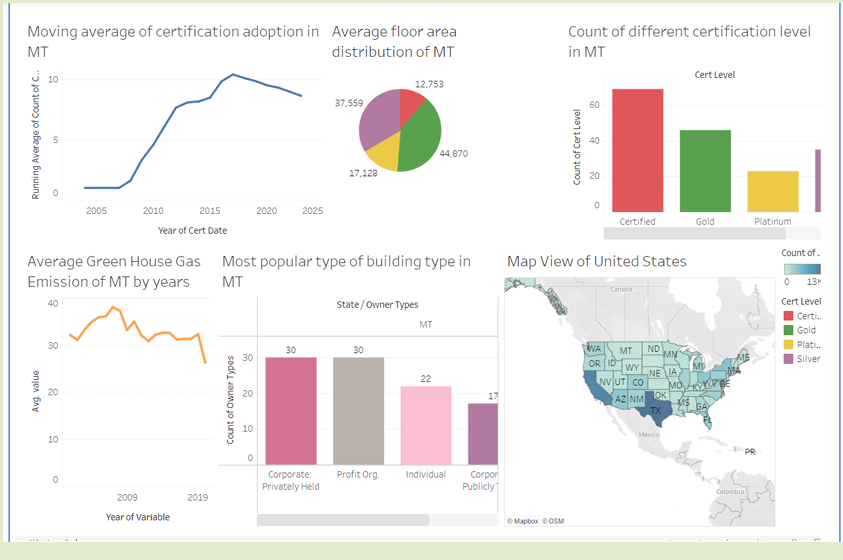

The page's visual inventory and layout, read from the dashboard file:
{"tool":"tableau","page":{"name":"Dashboard 1","canvas":[1000,1000],"units":"permille","ordinal":0},"visuals":[{"type":"worksheet","title":"Sheet 4","mark":"Line","rows":["State"],"cols":["CertDate"],"box":[6.8,11.9,358.2,434.3]},{"type":"worksheet","title":"Sheet 3","mark":"Pie","rows":["State"],"box":[365,11.9,311,434.3]},{"type":"worksheet","title":"Sheet 2","mark":"Bar","rows":["State","CertLevel"],"cols":["CertLevel"],"box":[675.9,11.9,317.3,434.3]},{"type":"worksheet","title":"Sheet 7","mark":"Line","rows":["value"],"cols":["variable"],"box":[6.8,446.3,27.2,541.8]},{"type":"worksheet","title":"Sheet 5","mark":"Bar","rows":["OwnerTypes"],"cols":["State","OwnerTypes"],"box":[34,446.3,560.6,541.8]},{"type":"worksheet","title":"Sheet 1","mark":"Multipolygon","box":[594.6,446.3,339.1,541.8]},{"type":"legend","title":"Sheet 1","param":"[federated.0x5b4lk1nn2t3g14mz9i00gy8v11].[cnt:CertLevel:qk]","box":[933.7,446.3,59.5,109]},{"type":"legend","title":"Sheet 2","param":"[federated.0x5b4lk1nn2t3g14mz9i00gy8v11].[none:CertLevel:nk]","box":[933.7,555.2,59.5,170.2]}]}

Visuals, with their boxes on the dashboard's canvas, which has no fixed pixel size, in thousandths of its width and height (x1, y1, x2, y2). These are canvas units, not pixel positions in the 843x560 screenshot, which may show the page scaled, cropped or inside an application window:
"Sheet 4" worksheet (Line marks): <box>7,12,365,446</box>
"Sheet 3" worksheet (Pie marks): <box>365,12,676,446</box>
"Sheet 2" worksheet (Bar marks): <box>676,12,993,446</box>
"Sheet 7" worksheet (Line marks): <box>7,446,34,988</box>
"Sheet 5" worksheet (Bar marks): <box>34,446,595,988</box>
"Sheet 1" worksheet (Multipolygon marks): <box>595,446,934,988</box>
"Sheet 1" legend: <box>934,446,993,555</box>
"Sheet 2" legend: <box>934,555,993,725</box>
